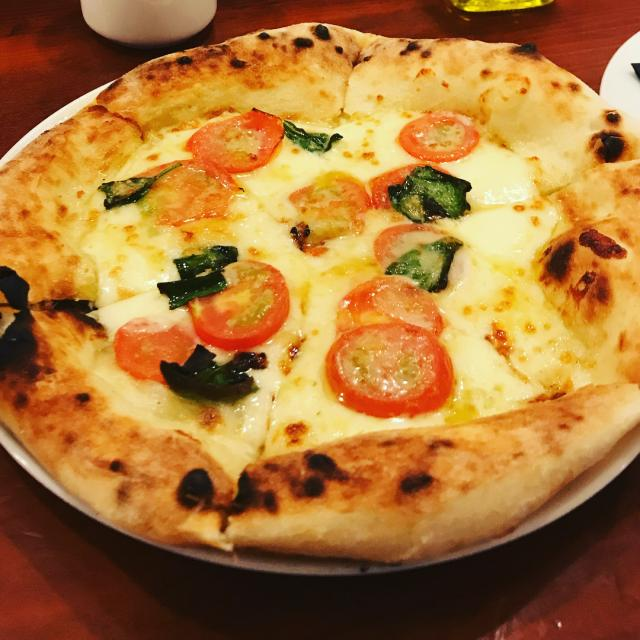basil: (159, 342, 267, 405), (157, 242, 241, 313), (388, 165, 477, 224), (387, 233, 468, 294), (94, 156, 184, 210), (282, 112, 346, 154)
pizza: (0, 20, 640, 569)
tomatoes: (324, 318, 457, 417), (190, 262, 292, 354), (181, 106, 288, 178), (333, 275, 445, 343), (137, 157, 243, 225), (286, 177, 372, 258), (113, 314, 199, 383), (367, 219, 460, 269), (397, 107, 480, 163), (366, 164, 415, 212)
